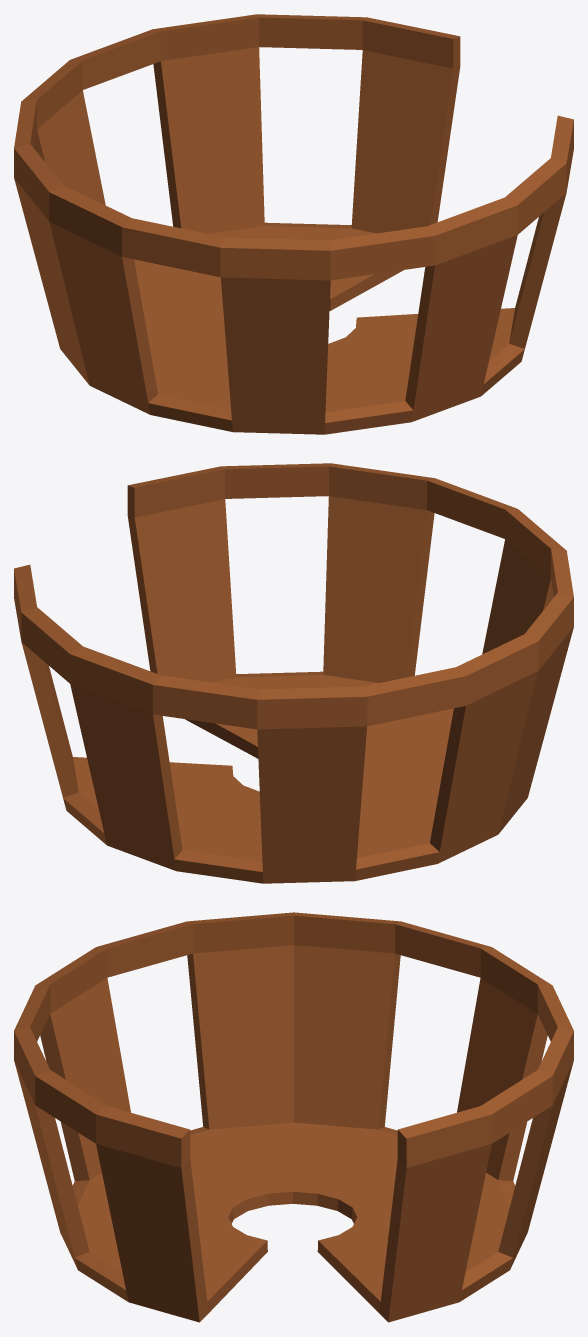
File: Crow's Nest.fbx
The picture shows the model from 3 angles, top to bottom: view 1: azimuth 30°, elevation 25°; view 2: azimuth 150°, elevation 25°; view 3: azimuth 270°, elevation 25°; orthographic projection.
Visible parts, largest first — view 1: Crow's Nest; view 2: Crow's Nest; view 3: Crow's Nest.
Boxes of the visible parts, box(x1,y1,x2,y2) form: Crow's Nest: box(14, 14, 573, 434); Crow's Nest: box(14, 463, 573, 883); Crow's Nest: box(14, 912, 573, 1322).
Bounding box in the file's own units: 316 × 134 × 331.
